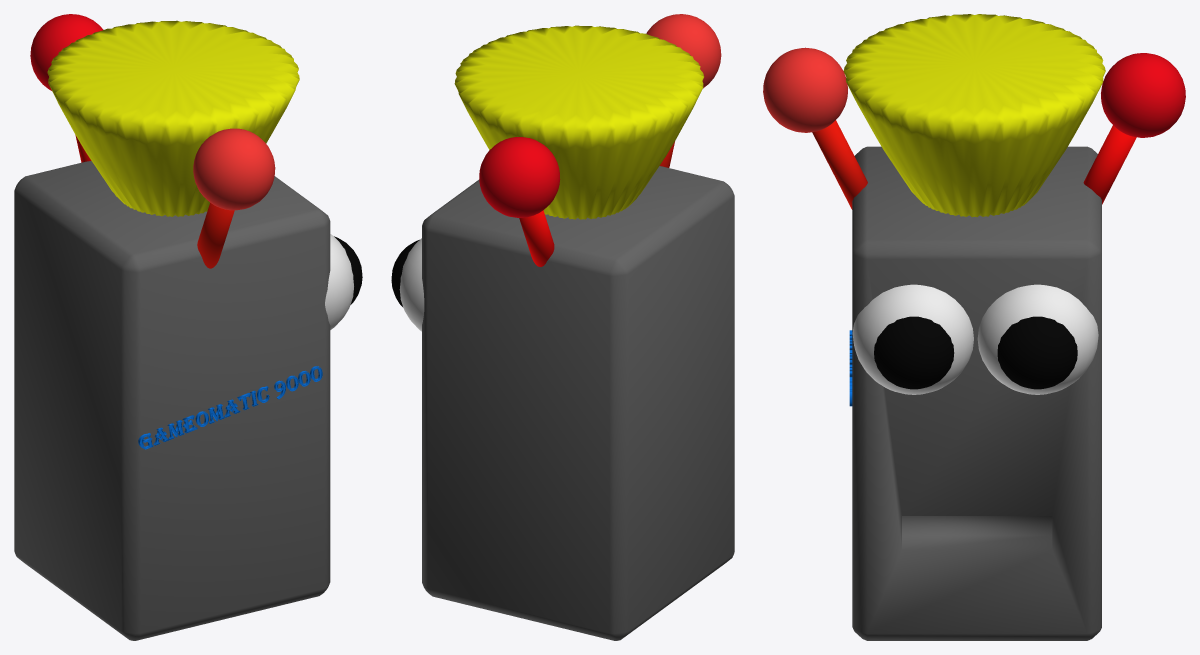
Rendered from gameomatic 9000.fbx.
3 renders of one model, left to right at view 1: azimuth 30°, elevation 25°; view 2: azimuth 150°, elevation 25°; view 3: azimuth 270°, elevation 25°, orthographic. The views are drawn at different scales.
Visible parts, largest first — view 1: Cube, Cone, Sphere.001, Sphere, Text, Sphere.002, Cylinder.001, Sphere.003; view 2: Cube, Cone, Sphere, Sphere.001, Sphere.005, Cylinder, Sphere.004; view 3: Cube, Cone, Sphere.002, Sphere.005, Sphere, Sphere.001, Sphere.003, Sphere.004, Cylinder.001, Cylinder.
Part boxes in pixels (box(x1,y1,x2,y2)): Cube: box(14, 161, 330, 640); Cone: box(47, 20, 299, 216); Sphere.001: box(193, 128, 275, 210); Sphere: box(30, 14, 103, 90); Text: box(138, 366, 322, 449); Sphere.002: box(325, 234, 353, 329); Cylinder.001: box(197, 202, 234, 268); Sphere.003: box(334, 236, 362, 304); Cube: box(422, 166, 734, 640); Cone: box(454, 25, 704, 219); Sphere: box(479, 137, 560, 217); Sphere.001: box(646, 14, 721, 88); Sphere.005: box(399, 238, 424, 331); Cylinder: box(519, 210, 554, 266); Sphere.004: box(391, 239, 419, 306); Cube: box(852, 146, 1101, 640); Cone: box(843, 14, 1105, 217); Sphere.002: box(852, 284, 973, 394); Sphere.005: box(977, 284, 1098, 394); Sphere: box(1101, 53, 1185, 137); Sphere.001: box(763, 47, 847, 132); Sphere.003: box(874, 316, 954, 389); Sphere.004: box(997, 316, 1077, 389); Cylinder.001: box(812, 120, 867, 209); Cylinder: box(1083, 125, 1136, 204).
Bounding box in the file's own units: 253 × 470 × 339.
